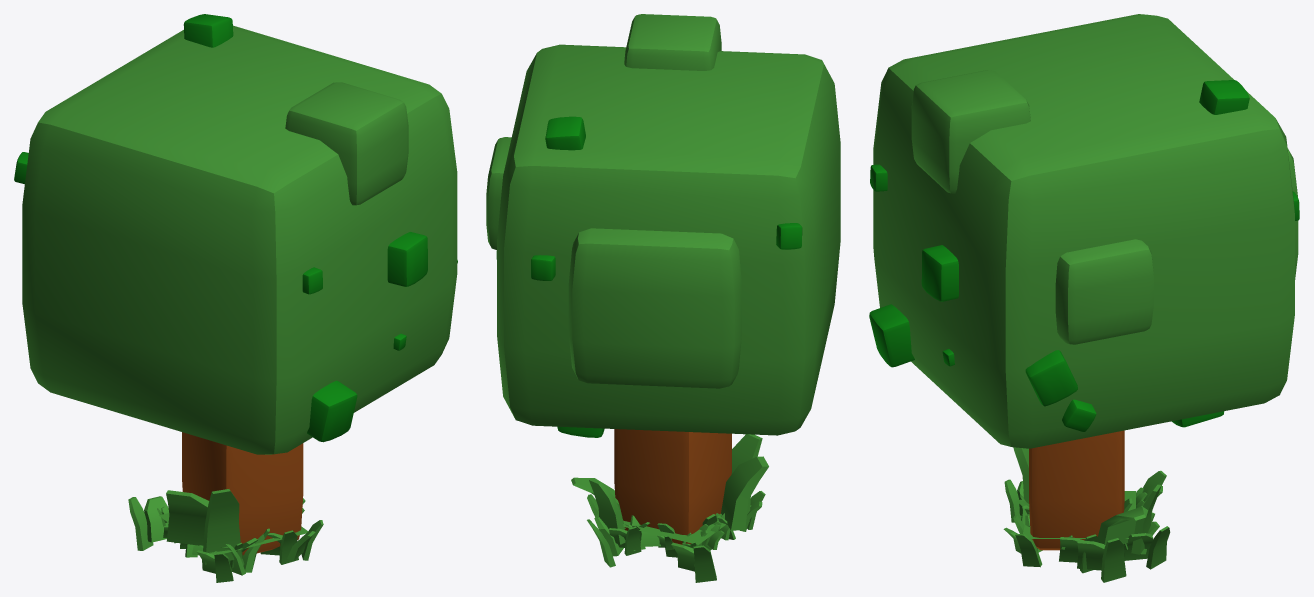
The model's file is tree.gltf.
3 renders of one model, left to right at view 1: azimuth 30°, elevation 25°; view 2: azimuth 150°, elevation 25°; view 3: azimuth 270°, elevation 25°, orthographic. The views are drawn at different scales.
Visible parts, largest first — view 1: cube_tree; view 2: cube_tree; view 3: cube_tree.
Boxes of the visible parts, box(x1,y1,x2,y2) form: cube_tree: box(14, 14, 457, 582); cube_tree: box(486, 14, 840, 582); cube_tree: box(869, 14, 1299, 582).
Bounding box in the file's own units: 2.75 × 3.39 × 2.69.
